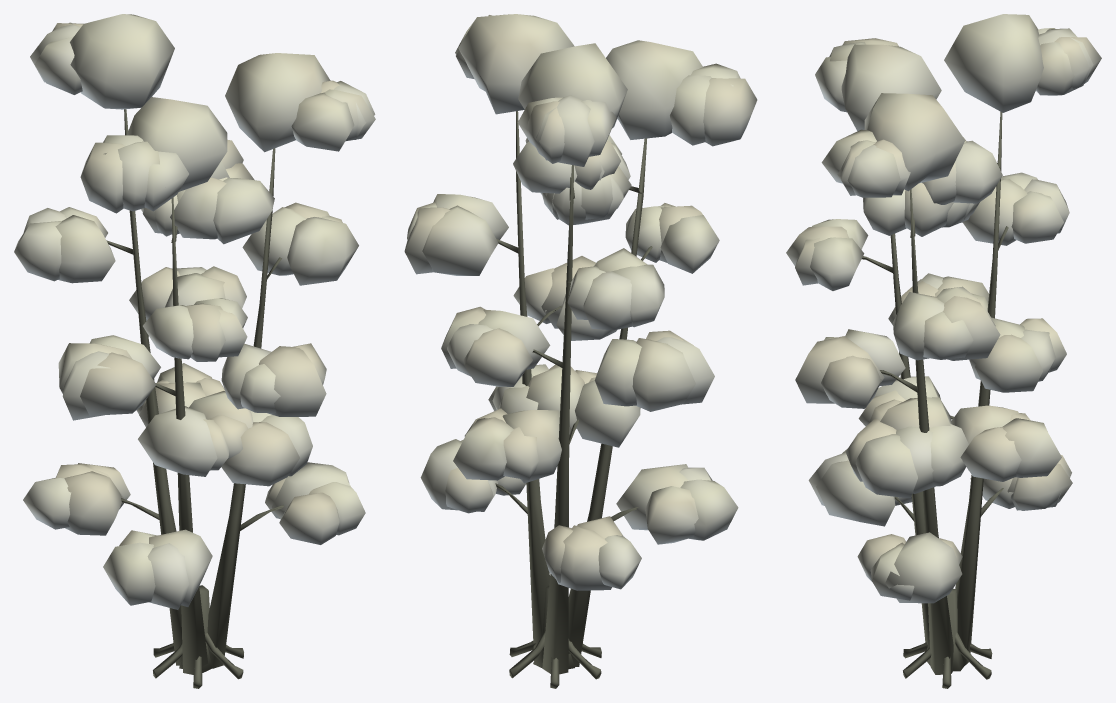
3 views of the same model, side by side, from view 1: azimuth 30°, elevation 25°; view 2: azimuth 150°, elevation 25°; view 3: azimuth 270°, elevation 25° (orthographic). The views are drawn at different scales.
Visible parts, largest first — view 1: crown, trunk; view 2: crown, trunk; view 3: crown, trunk.
Part boxes in pixels (x1,y1,x2,y2): crown: (14,14,375,609); trunk: (106,109,283,688); crown: (404,14,757,590); trunk: (495,111,652,688); crown: (786,14,1101,603); trunk: (862,111,1008,688).
Size of the model in its own units: 6.44 by 13.42 by 6.08.
